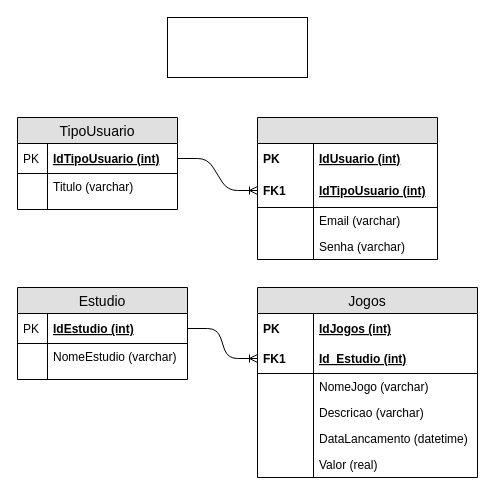
The diagram is 495 pixels wide and 498 high, and some of its shapes have lost their labels. Each missing label, with the box of its shape:
MODELO LOGICO: (166, 16, 308, 78)
Usuarios: (256, 116, 438, 260)
